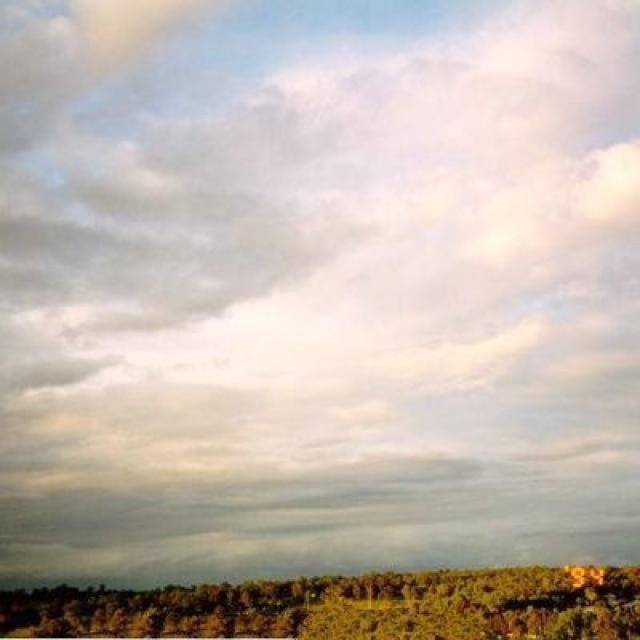Sc: (1, 19, 640, 484)
